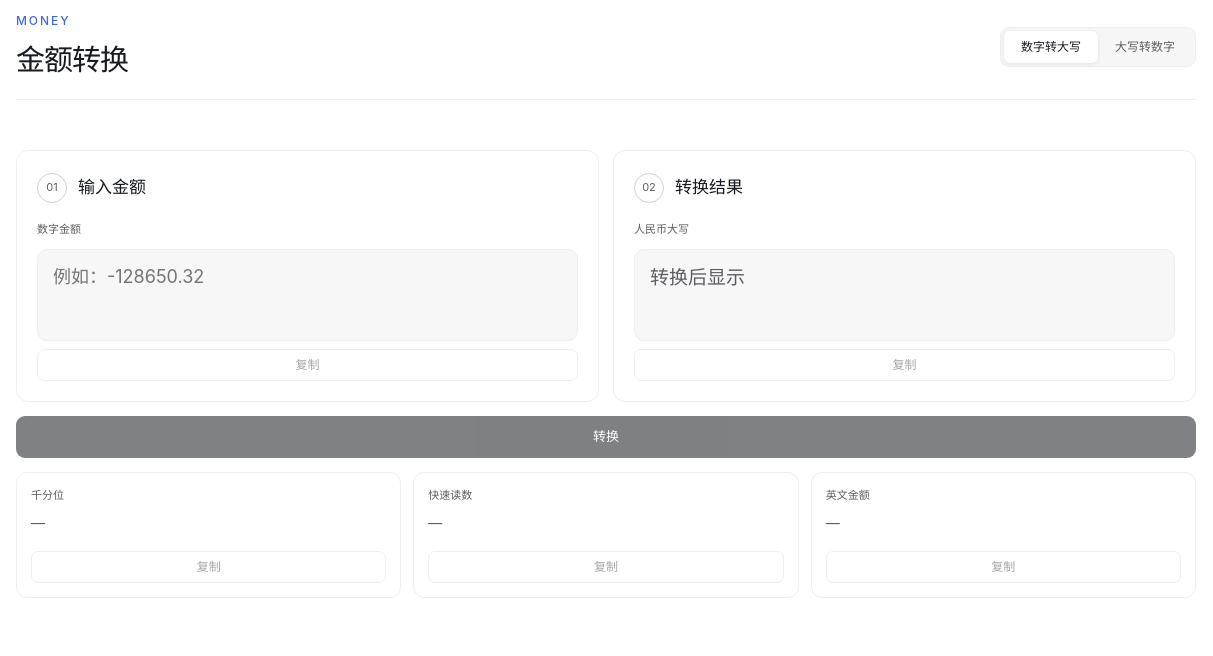
Scenario: shows an actionable error when every copy mechanism fails
Type "-128650.32" into the text box labelled "数字金额". click: (308,294)
box: [53, 262, 562, 326]
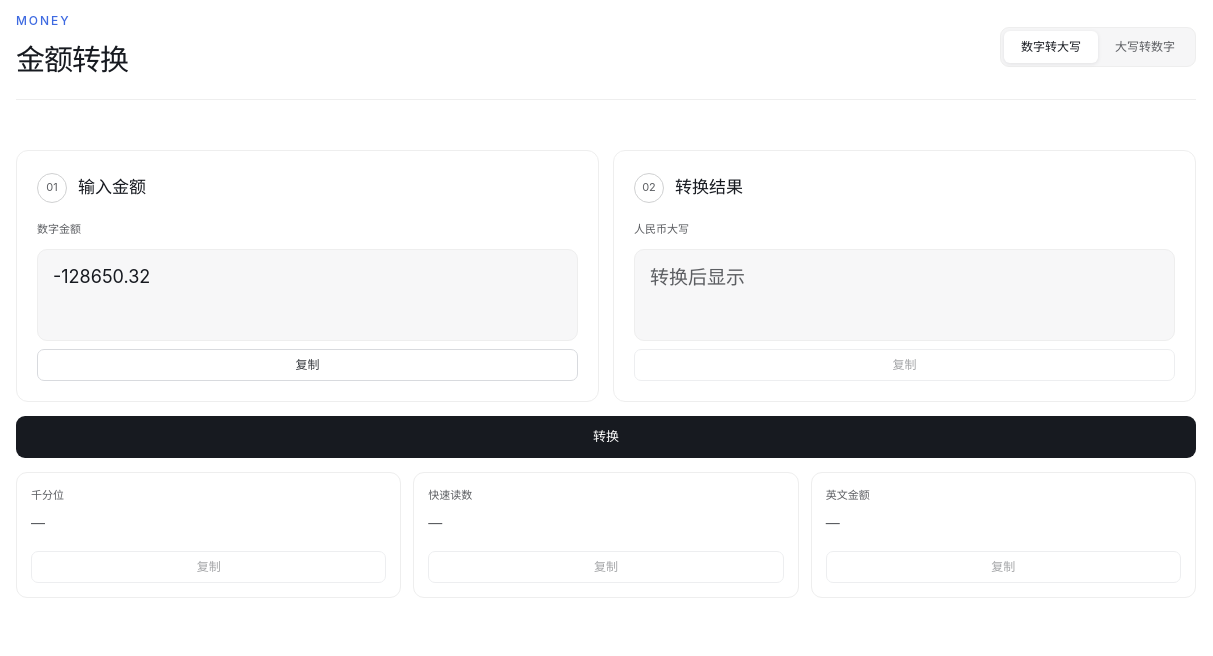
Click the button "转换". click: (606,436)
box: [16, 416, 1196, 458]
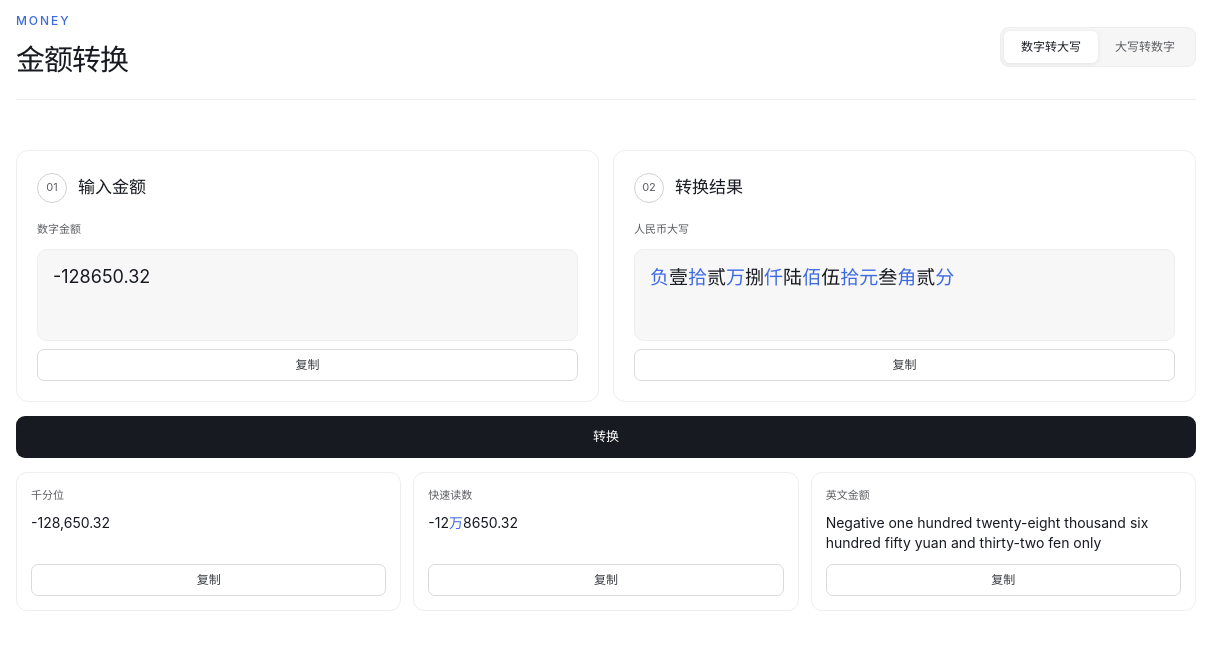
Click the button with aria-label "复制快速读数". click: (606,580)
box: [428, 564, 784, 596]
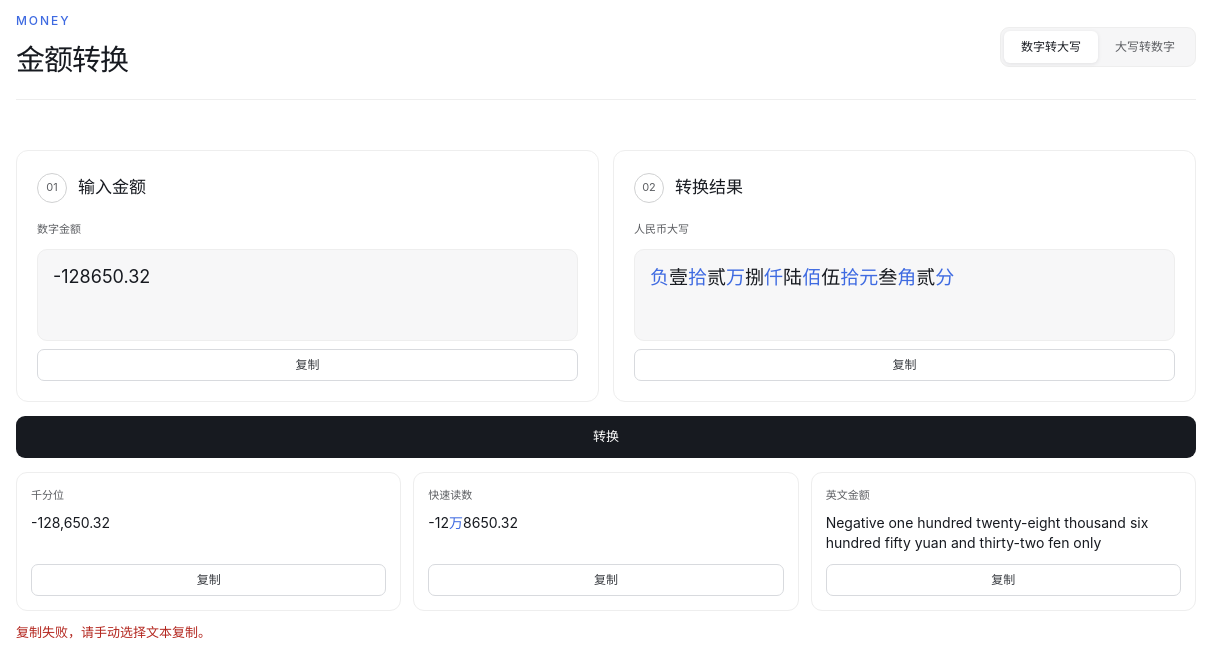
Expected: the message "复制失败，请手动选择文本复制。" is shown, [16, 624, 211, 640]
